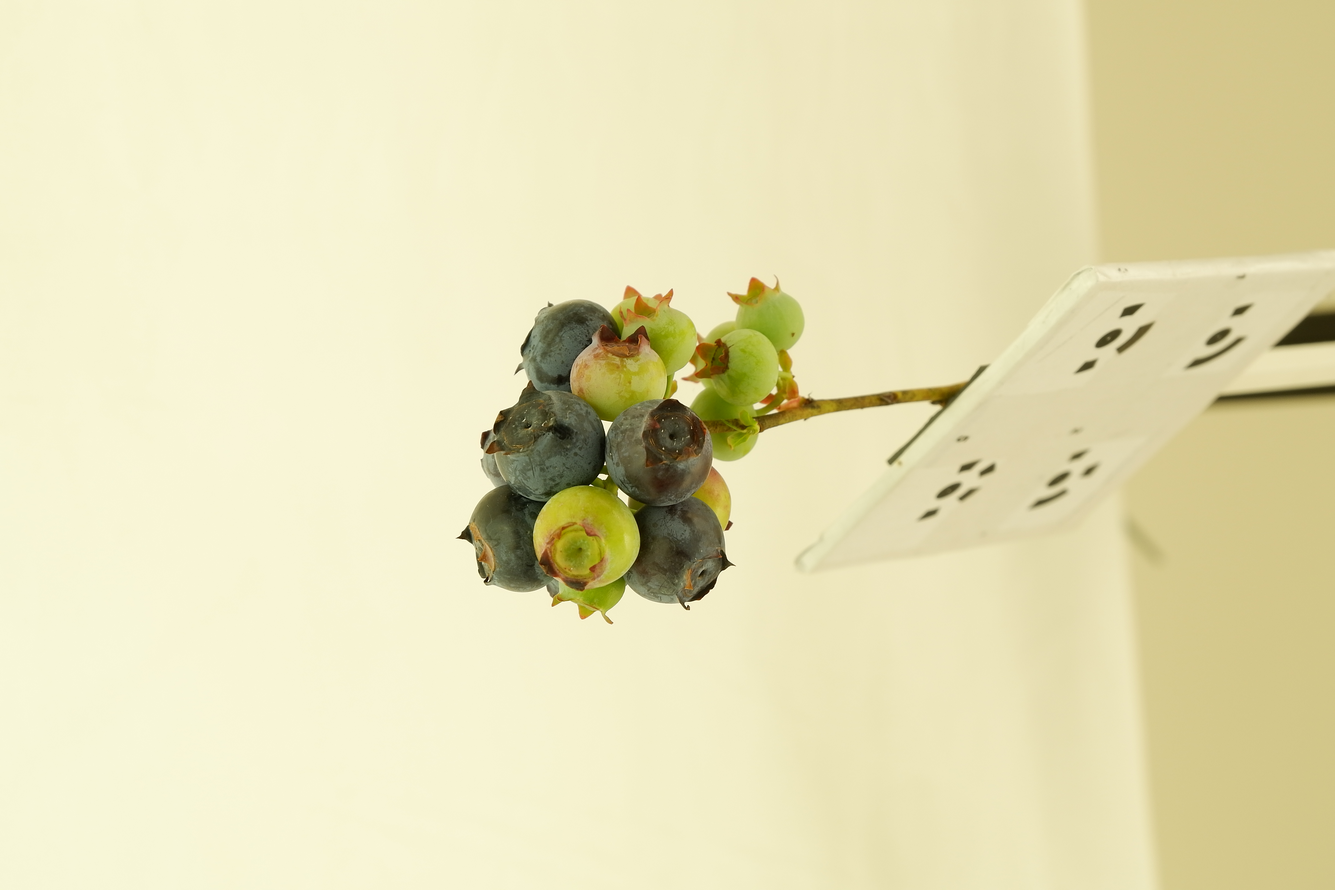Immature: (536, 487, 640, 589), (572, 329, 665, 420), (465, 488, 543, 589), (627, 464, 731, 531), (619, 288, 697, 375), (699, 331, 778, 408), (731, 279, 804, 350), (690, 387, 758, 462), (681, 321, 749, 383), (610, 284, 661, 338)
Mature: (487, 381, 607, 501), (606, 399, 712, 502), (624, 497, 726, 604), (522, 301, 616, 390), (479, 428, 509, 489)
